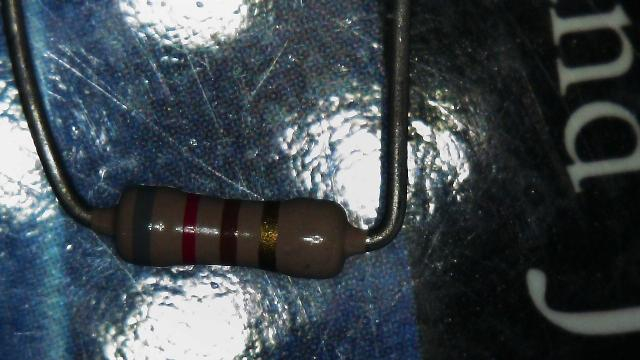brown: (220, 199, 240, 266)
gold: (258, 202, 278, 270)
grey: (132, 186, 156, 264)
red: (182, 194, 198, 264)
resistor: (78, 171, 366, 300)
